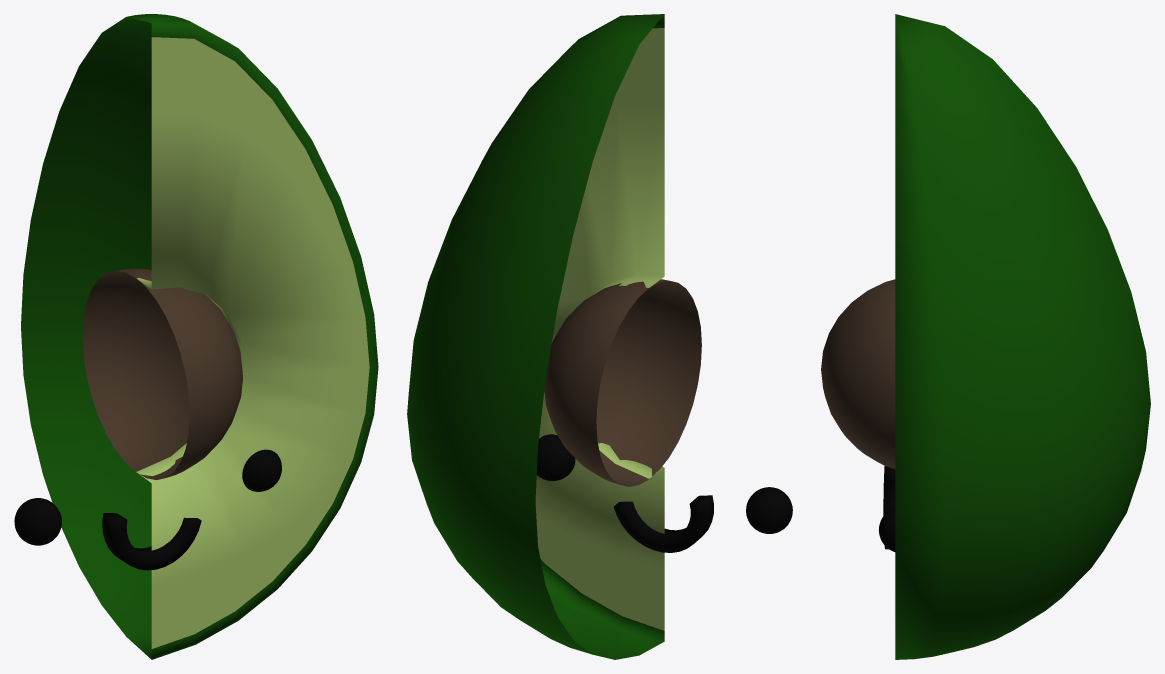
The model's file is sitemodel.glb.
3 renders of one model, left to right at view 1: azimuth 30°, elevation 25°; view 2: azimuth 150°, elevation 25°; view 3: azimuth 270°, elevation 25°, orthographic. The views are drawn at different scales.
Visible parts, largest first — view 1: Sphere, Sphere.001, Circle, Sphere.003, Sphere.002; view 2: Sphere, Sphere.001, Circle, Sphere.003, Sphere.002; view 3: Sphere, Sphere.001, Sphere.002, Circle.
Part boxes in pixels (box(x1,y1,x2,y2)): Sphere: box(21, 14, 378, 659); Sphere.001: box(82, 268, 242, 479); Circle: box(102, 513, 201, 570); Sphere.003: box(14, 498, 61, 545); Sphere.002: box(242, 449, 281, 491); Sphere: box(407, 14, 664, 659); Sphere.001: box(544, 279, 701, 486); Circle: box(614, 495, 713, 552); Sphere.003: box(746, 487, 792, 533); Sphere.002: box(536, 434, 575, 480); Sphere: box(895, 14, 1150, 659); Sphere.001: box(821, 279, 895, 468); Sphere.002: box(879, 508, 895, 551); Circle: box(883, 466, 895, 549).
Bounding box in the file's own units: 1.58 × 2.68 × 1.29.
